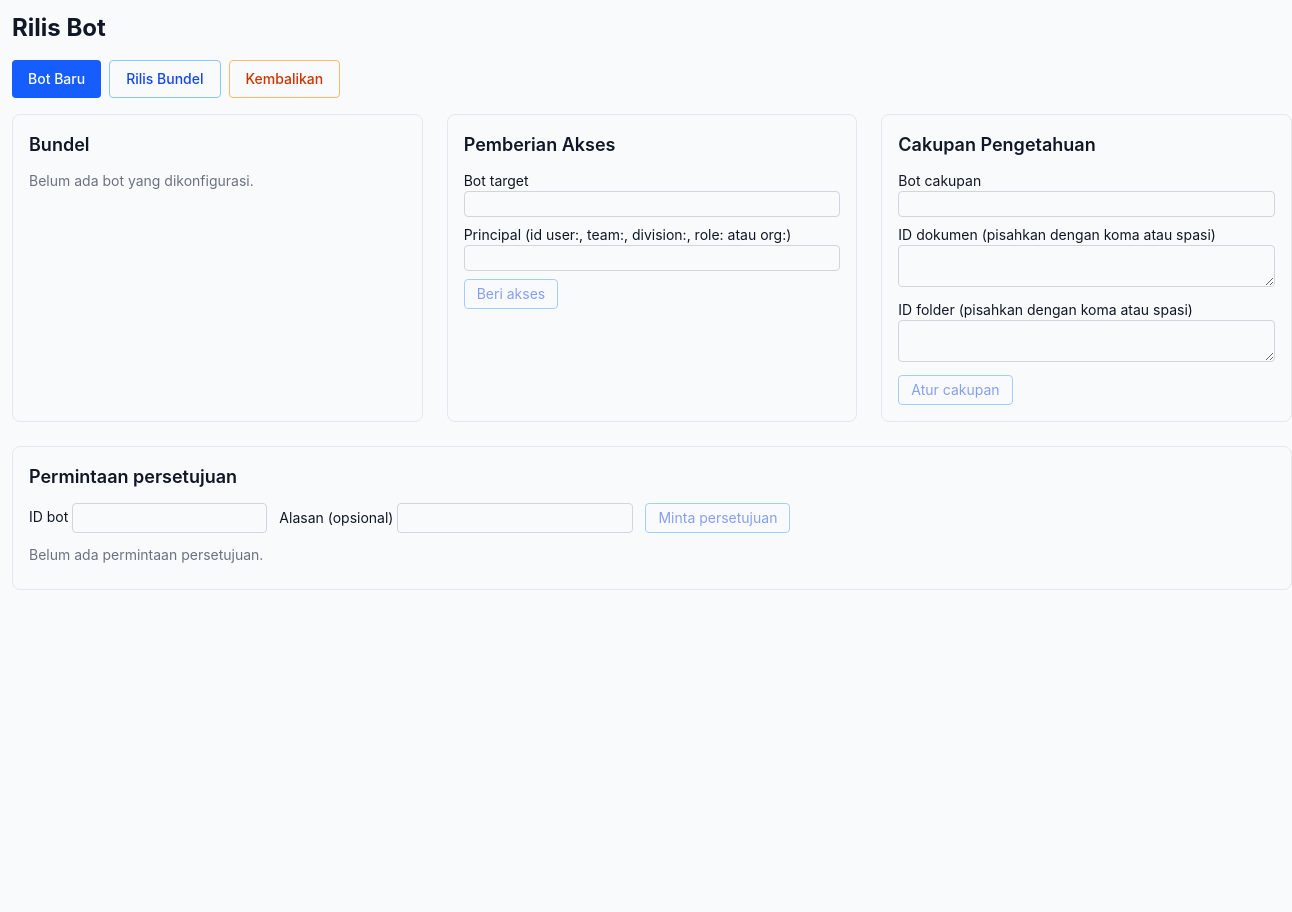
Test: BotReleaseScreen › prefills the grant target bot after creating a bot, and labels the grant form in Indonesian
Expected: the text "Belum ada permintaan persetujuan." is shown, x1=29 y1=546 x2=263 y2=563
Click the button "Bot Baru" at x=57, y=79, box x1=12 y1=60 x2=101 y2=98
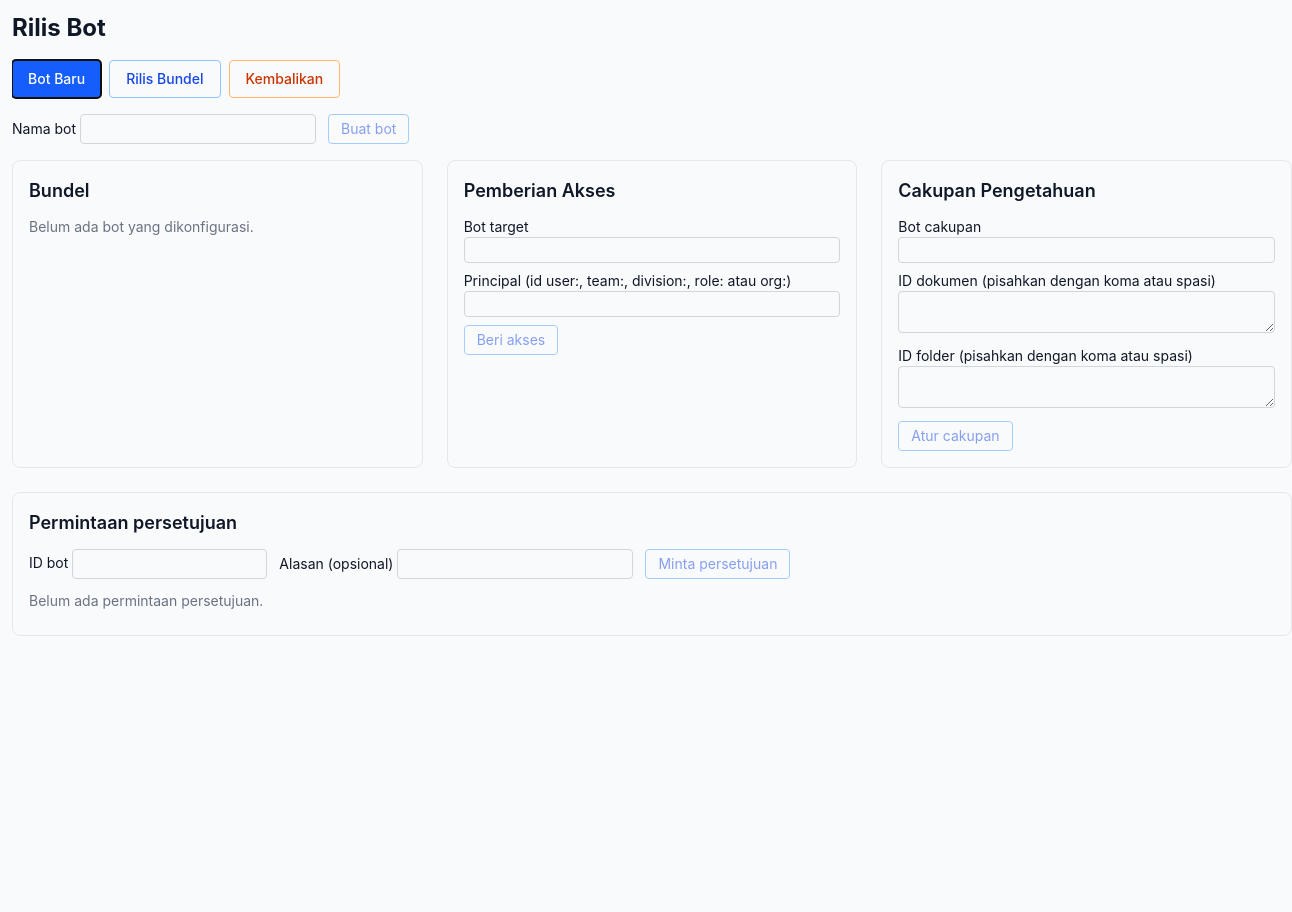
Type "HR assistant" into the field labelled "Nama bot" at x=198, y=129, box x1=80 y1=114 x2=316 y2=144
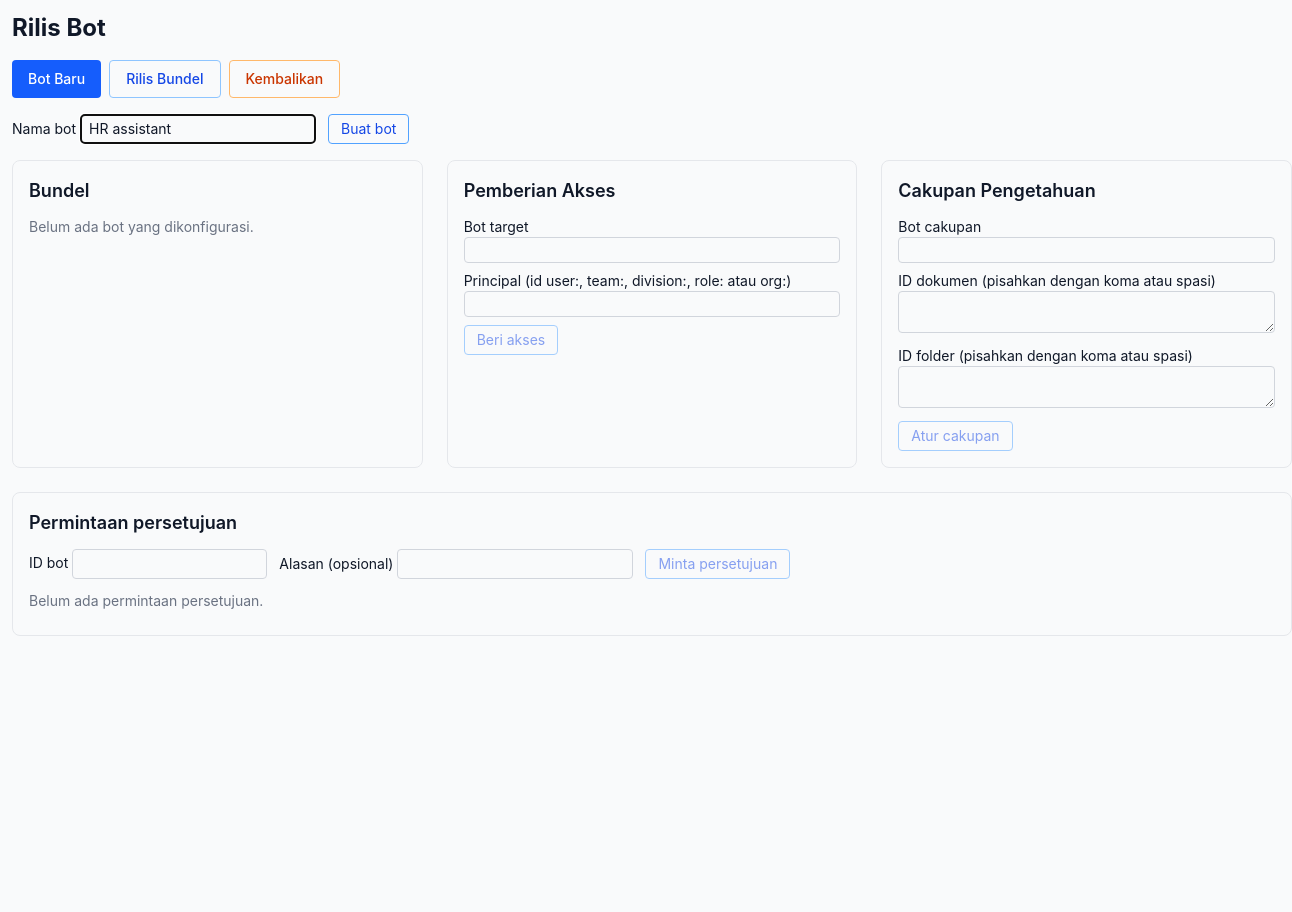
Click the button "Buat bot" at x=369, y=129, box x1=328 y1=114 x2=409 y2=144
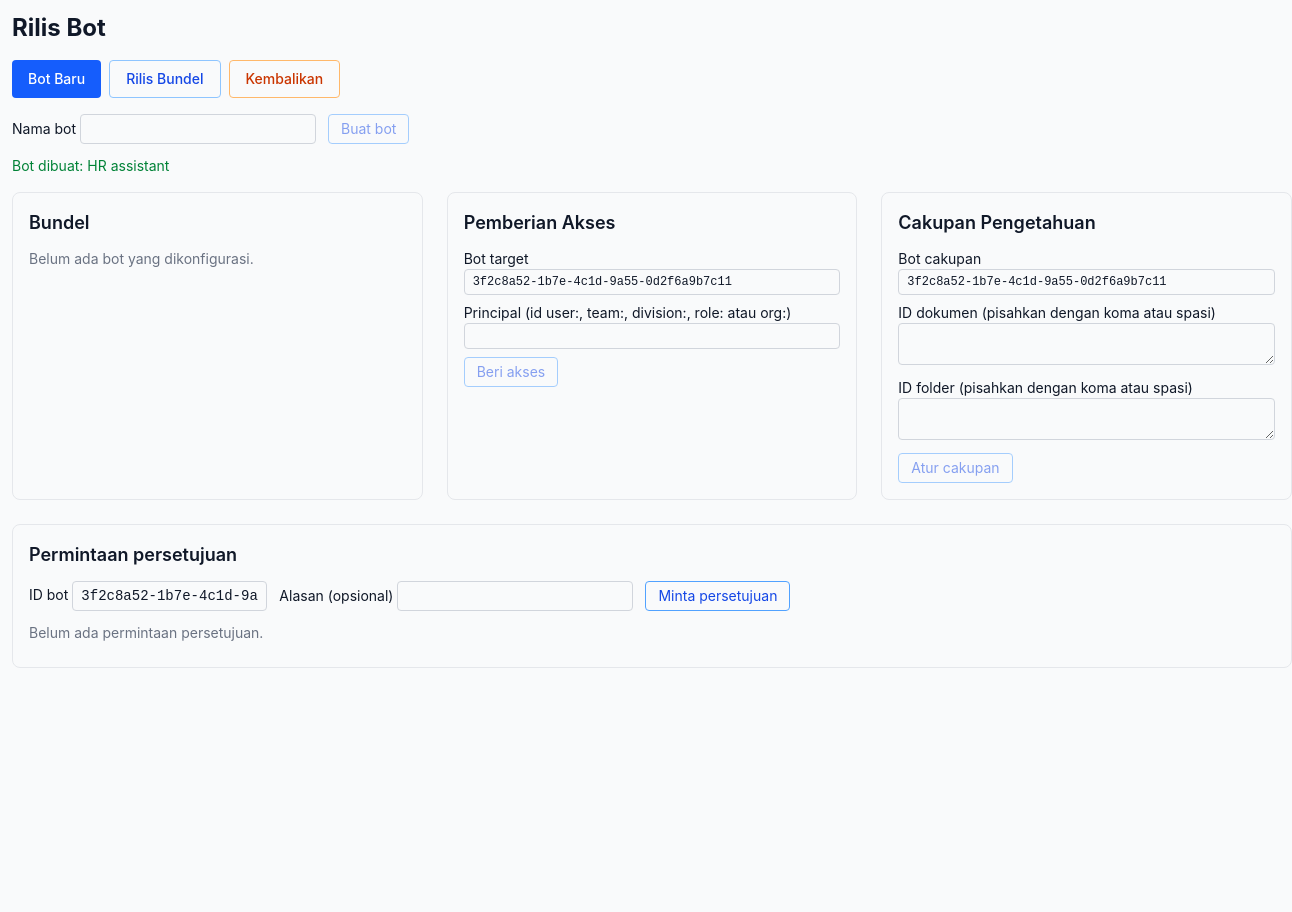
Expected: the button "Beri akses" is shown, x1=464 y1=357 x2=558 y2=387
Now the message "Bot dibuat: HR assistant" is shown, box x1=12 y1=157 x2=169 y2=174
Now the field labelled "Bot target" holds "3f2c8a52-1b7e-4c1d-9a55-0d2f6a9b7c11", box x1=464 y1=269 x2=840 y2=295
